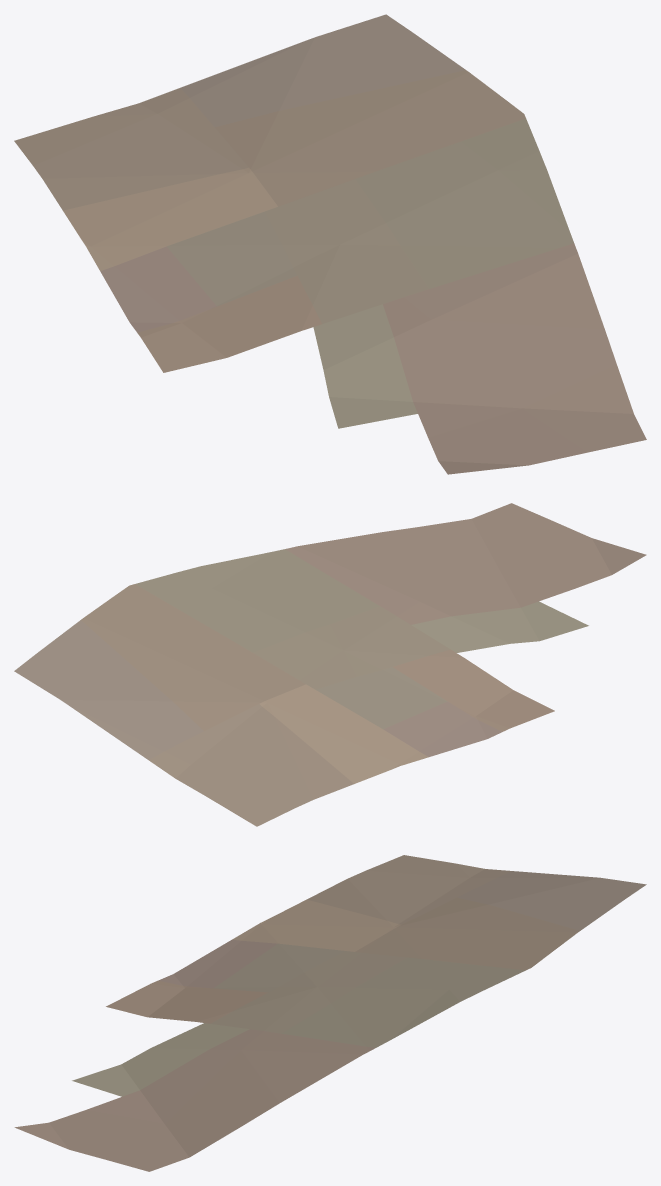
Rendered from farm_-28_-31_soil.glb.
The picture shows the model from 3 angles, top to bottom: view 1: azimuth 30°, elevation 25°; view 2: azimuth 150°, elevation 25°; view 3: azimuth 330°, elevation 25°; orthographic projection. The views are drawn at different scales.
Visible parts, largest first — view 1: geometry_0; view 2: geometry_0; view 3: geometry_0.
Part boxes in pixels (x1,y1,x2,y2): geometry_0: (14,14,646,474); geometry_0: (14,503,646,826); geometry_0: (14,855,646,1171).
Bounding box in the file's own units: 220 × 48.28 × 411.
